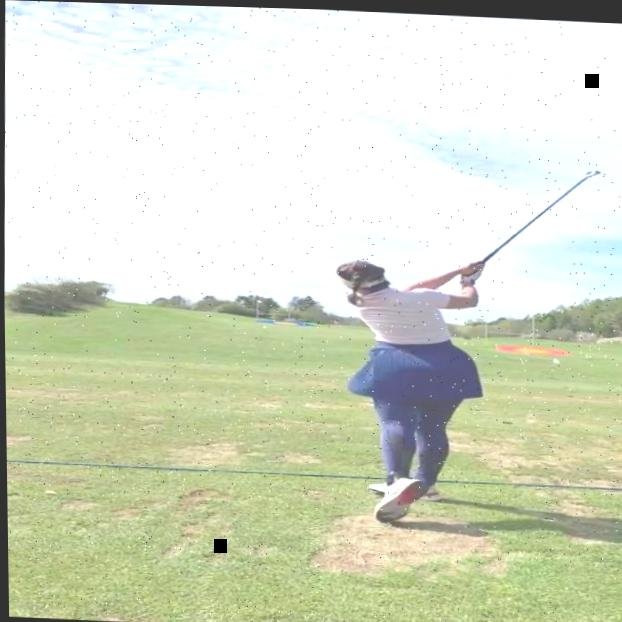ClubHead: (582, 166, 603, 175)
